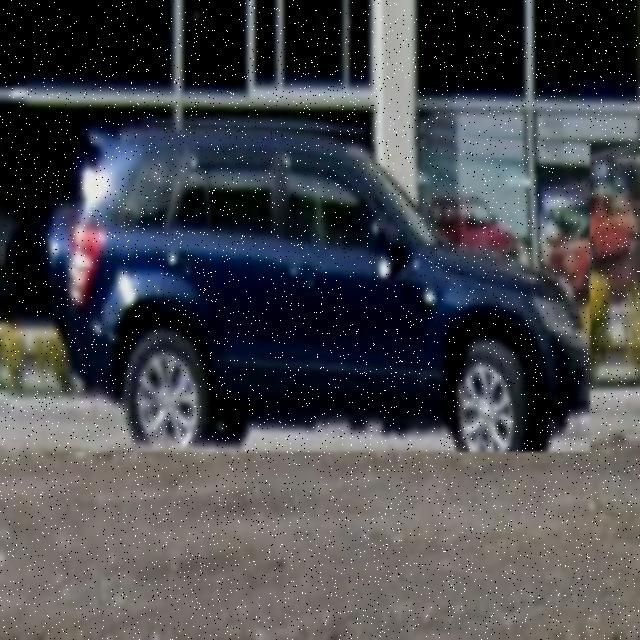car: (33, 118, 591, 453)
